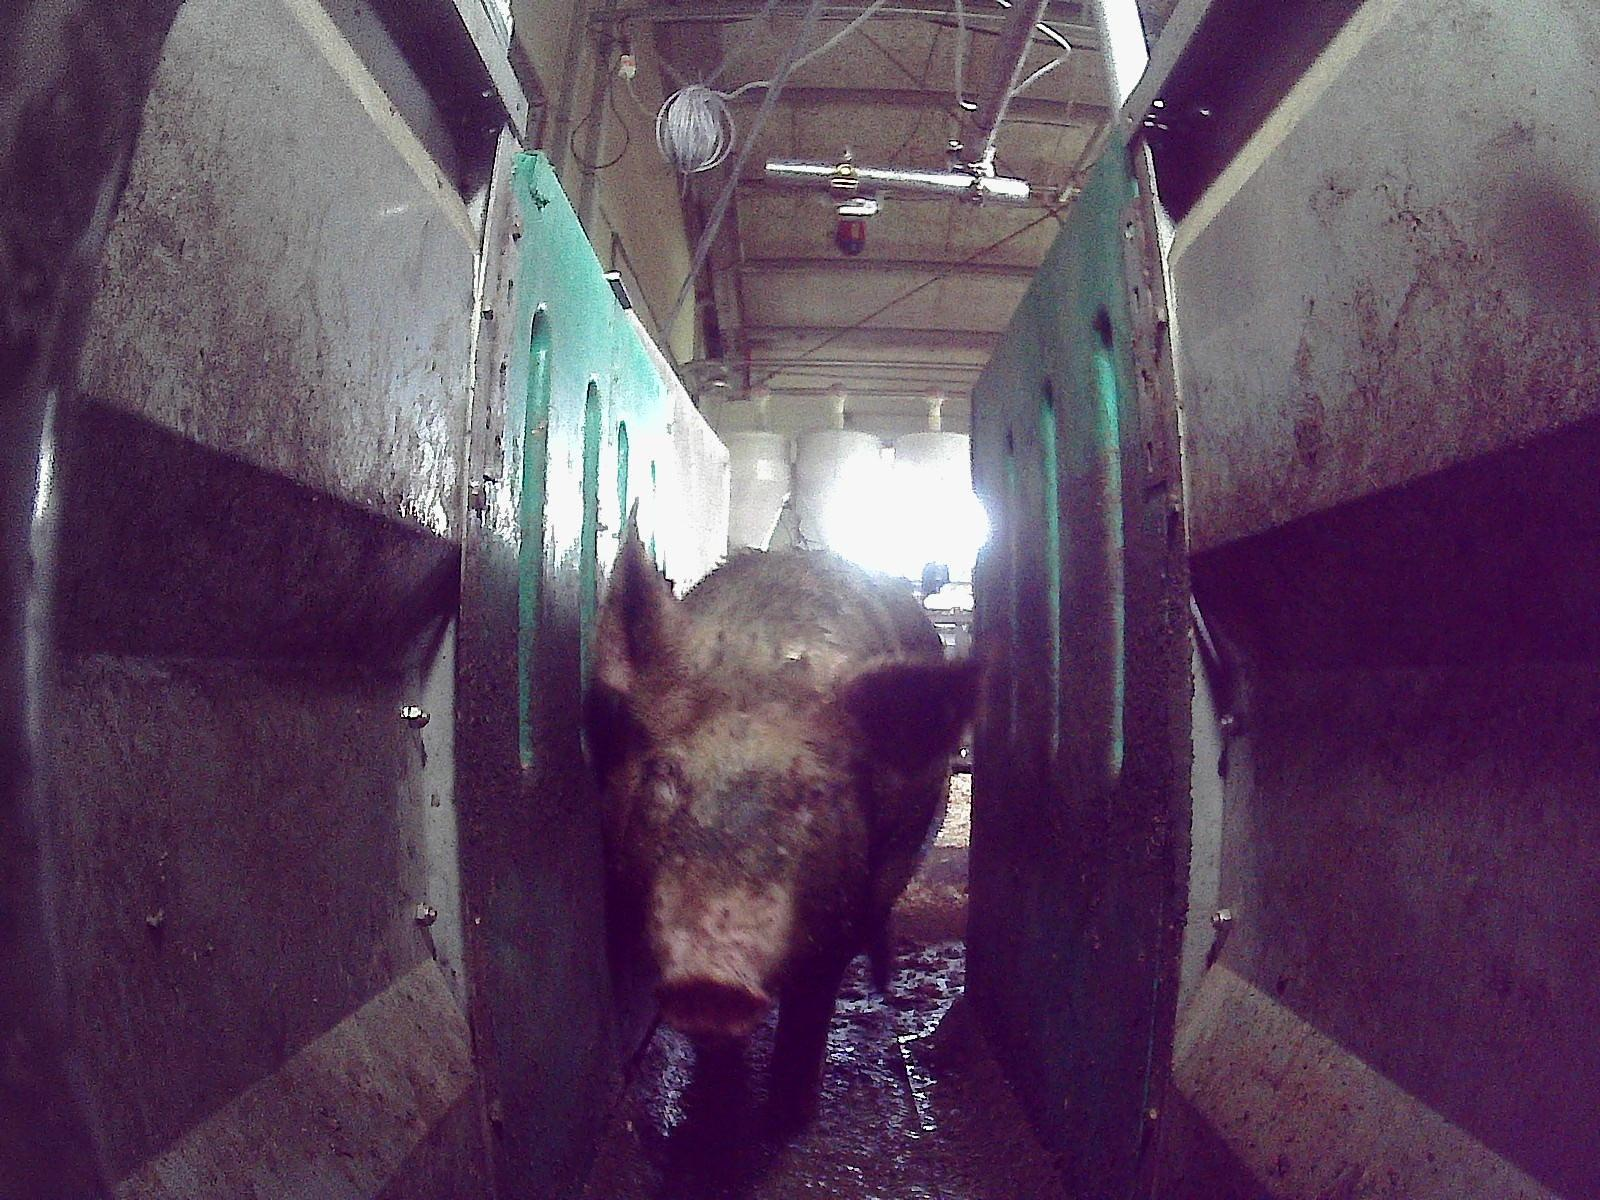Face: (620, 677, 862, 1033)
